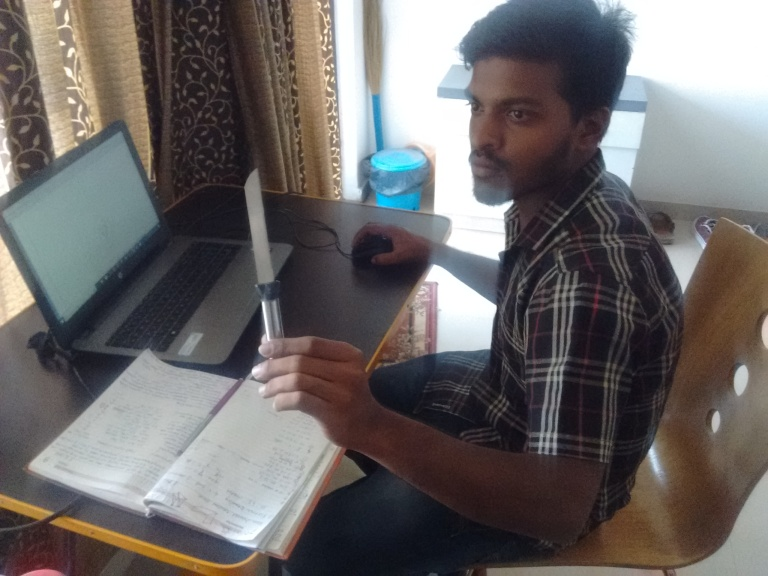knife: (240, 167, 288, 338)
